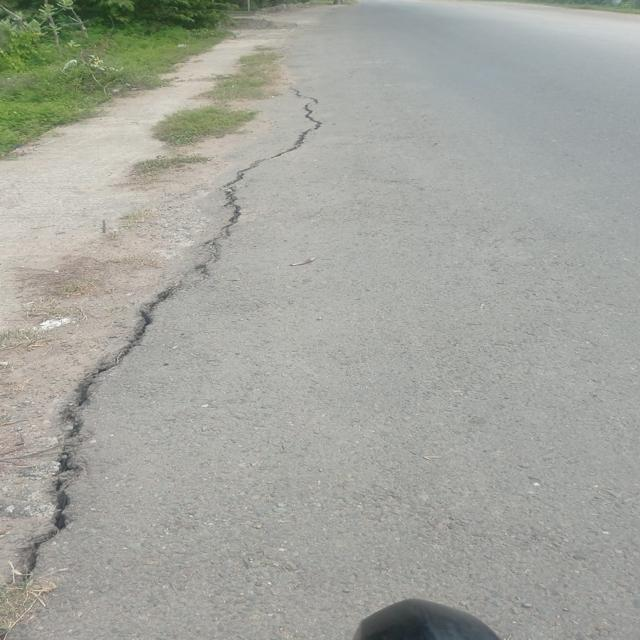Memanjang: (0, 80, 331, 598)
